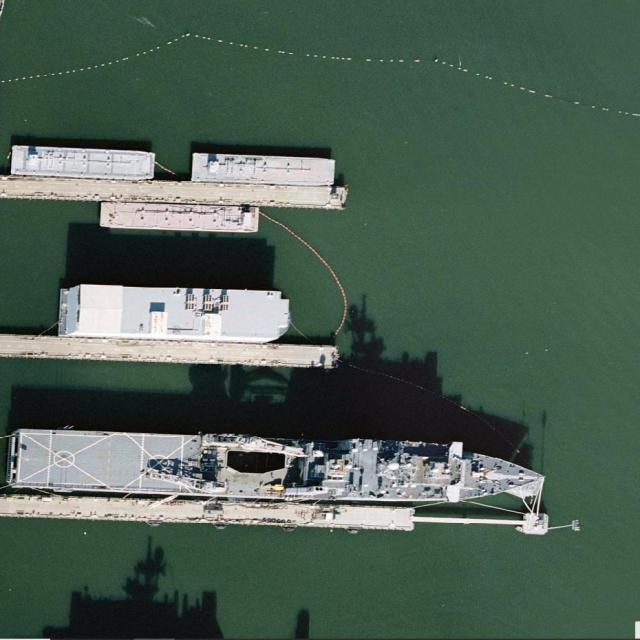Dock: (2, 493, 415, 531), (2, 173, 346, 209), (2, 334, 338, 368)
Landing: (4, 423, 548, 511)
